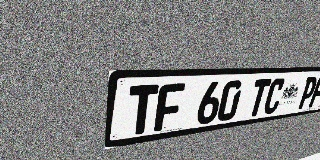0: (216, 80, 244, 122)
6: (195, 81, 224, 125)
C: (262, 78, 287, 115)
F: (154, 83, 185, 132), (308, 76, 320, 108)
P: (296, 76, 319, 110)
T: (126, 84, 159, 136), (246, 79, 272, 117)
